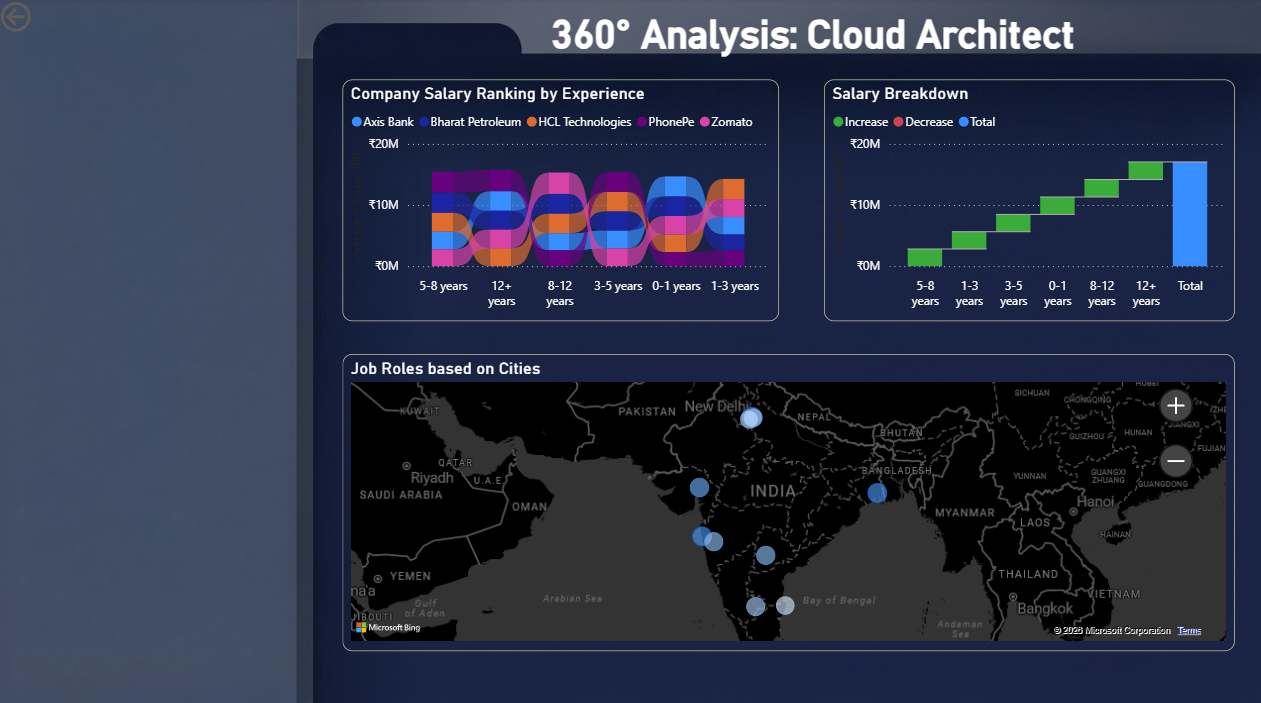

Layout of this report page (visuals, bound fields, positions):
{"tool":"powerbi","page":{"name":"Role details","canvas":[1280,720],"ordinal":1},"visuals":[{"type":"actionButton","box":[0,0,100,40],"z":0},{"type":"ribbonChart","title":"Company Salary Ranking by Experience","fields":{"Category":["Job_Market_India.Experience_Level"],"Y":["Avg(Job_Market_India.Salary_INR)"],"Series":["Job_Market_India.Company_Name"]},"box":[349.8,83.3,440.6,243.8],"z":1000},{"type":"waterfallChart","title":"Salary Breakdown","fields":{"Category":["Job_Market_India.Experience_Level","Job_Market_India.Avg Experience"],"Y":["Avg(Job_Market_India.Salary_INR)"]},"box":[835.8,83.3,414.9,243.8],"z":2000},{"type":"map","title":"Job Roles based on Cities","fields":{"Category":["Job_Market_India.City"],"Size":["CountNonNull(Job_Market_India.Job_Role)"]},"box":[349.8,360.4,901,299.8],"z":3000},{"type":"card","fields":{"Values":["Job_Market_India.Page Title"]},"box":[464.9,0,719.2,69.7],"z":4000}]}

Visuals, with their boxes in screenshot pixels (x1, y1, x2, y2), scaled from the page's 1280x720 canvas onto the 1261x703 screenshot:
actionButton: (left=0, top=0, right=99, bottom=39)
"Company Salary Ranking by Experience" ribbonChart: (left=345, top=81, right=779, bottom=319)
"Salary Breakdown" waterfallChart: (left=823, top=81, right=1232, bottom=319)
"Job Roles based on Cities" map: (left=345, top=352, right=1232, bottom=645)
card - Job_Market_India.Page Title: (left=458, top=0, right=1167, bottom=68)
